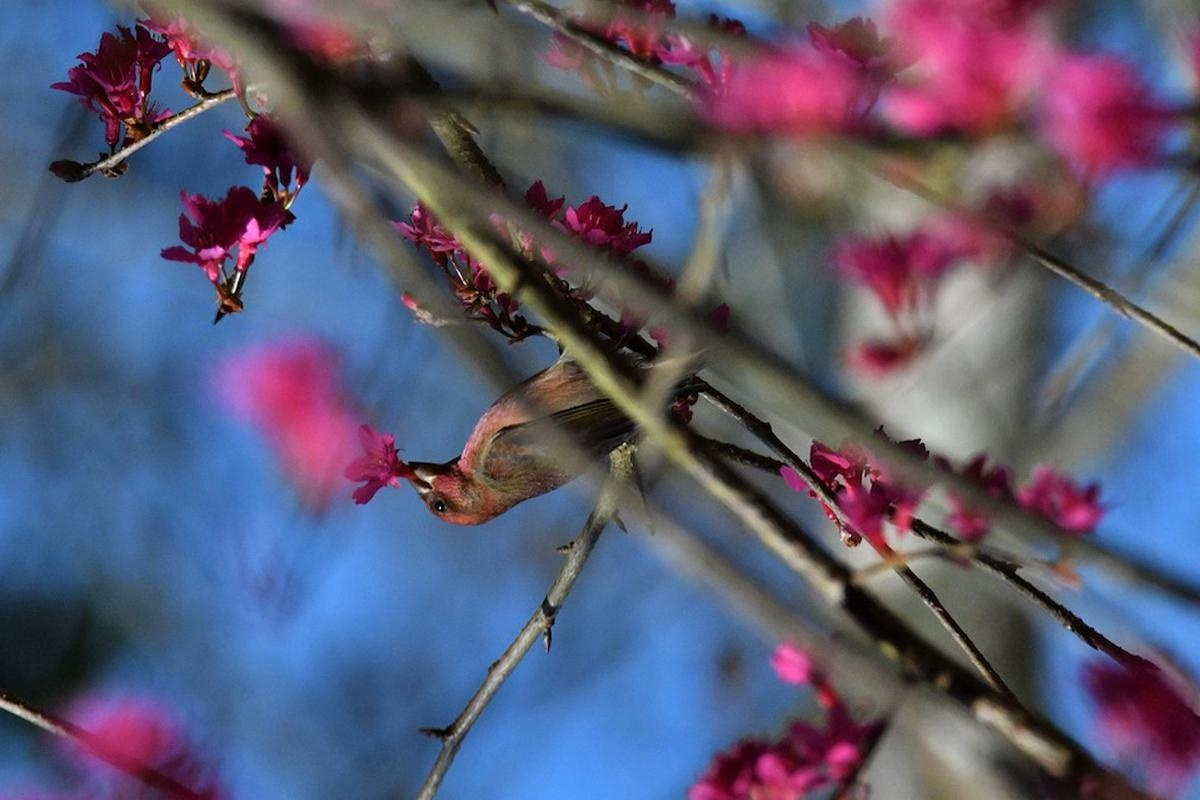rosefinch: (394, 290, 726, 536)
